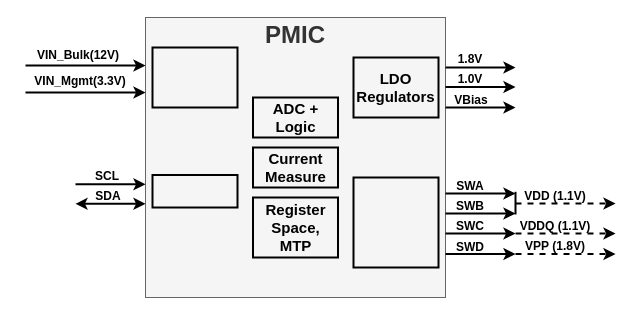
Some shapes in this 641 by 315 pixel diagram are drawn without their labels. Here are the shapes that lost their labels. From the top down, the centre of each, then its label:
the point at 194,77: Input Voltage
the point at 194,191: I2C/I3C
the point at 395,222: Switching Regulators
